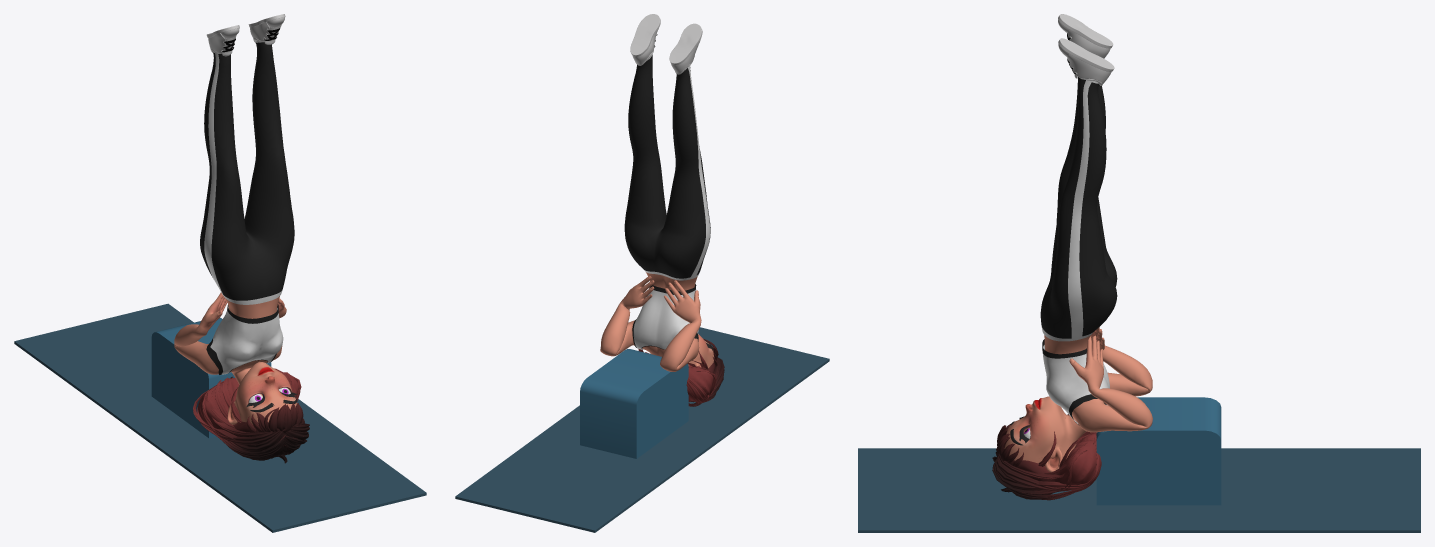
File: sarvangasana.glb
3 views of the same model, side by side, from view 1: azimuth 30°, elevation 25°; view 2: azimuth 150°, elevation 25°; view 3: azimuth 270°, elevation 25° (orthographic). The views are drawn at different scales.
Parts seen in each view (by area): view 1: Cube, BOT, hair, base, Cube.001, TOP, shoes; view 2: Cube, BOT, Cube.001, base, TOP, shoes, hair; view 3: Cube, BOT, Cube.001, base, hair, shoes, TOP.
Part boxes in pixels (x1=…): Cube: x1=14, y1=303, x2=426, y2=532; BOT: x1=200, y1=40, x2=294, y2=304; hair: x1=193, y1=368, x2=309, y2=463; base: x1=174, y1=292, x2=297, y2=424; Cube.001: x1=151, y1=317, x2=271, y2=438; TOP: x1=206, y1=304, x2=283, y2=374; shoes: x1=206, y1=14, x2=285, y2=56; Cube: x1=455, y1=327, x2=829, y2=532; BOT: x1=624, y1=54, x2=710, y2=280; Cube.001: x1=580, y1=349, x2=688, y2=458; base: x1=600, y1=272, x2=714, y2=371; TOP: x1=632, y1=284, x2=698, y2=349; shoes: x1=630, y1=14, x2=702, y2=74; hair: x1=638, y1=338, x2=724, y2=406; Cube: x1=858, y1=448, x2=1420, y2=532; BOT: x1=1040, y1=77, x2=1117, y2=341; Cube.001: x1=1096, y1=397, x2=1221, y2=505; base: x1=1004, y1=327, x2=1152, y2=472; hair: x1=992, y1=414, x2=1101, y2=500; shoes: x1=1058, y1=14, x2=1114, y2=85; TOP: x1=1042, y1=339, x2=1109, y2=425.
Bounding box in the file's own units: 4.93 × 13.07 × 14.34.
12 materials, 2 textured.
